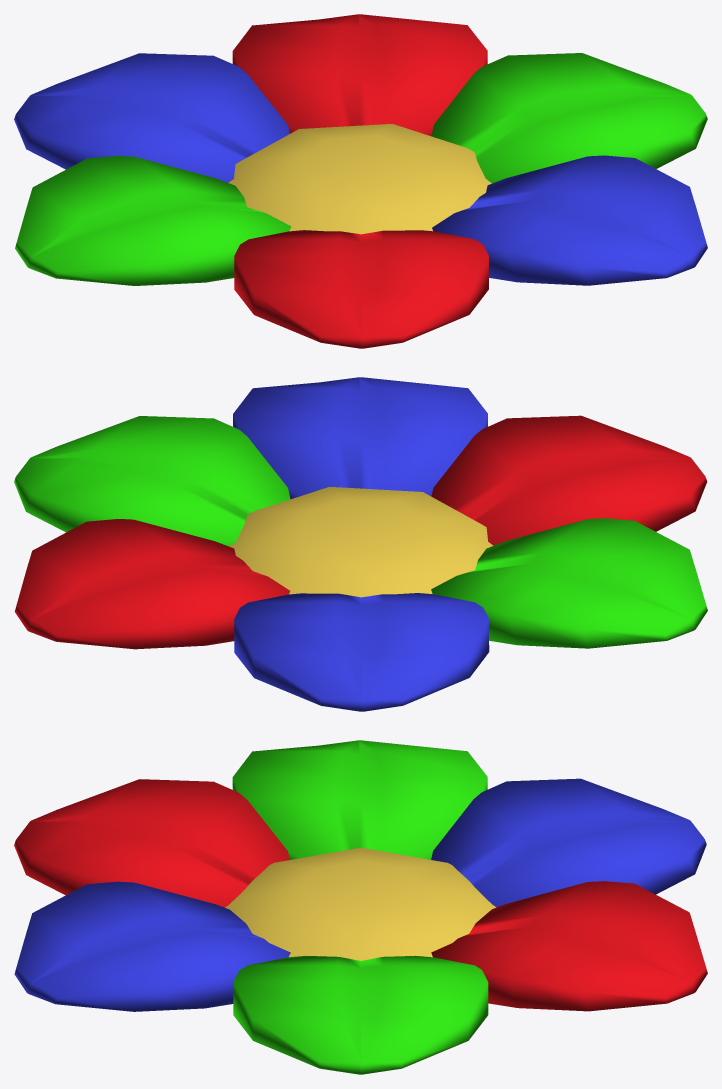
The model's file is FlorPuzzlePrimavera.fbx.
3 renders of one model, top to bottom at view 1: azimuth 30°, elevation 25°; view 2: azimuth 150°, elevation 25°; view 3: azimuth 270°, elevation 25°, orthographic.
Parts seen in each view (by area): view 1: Petala5, Petala3, Petala4, Petala2, Petala6, Petala1, Miolo; view 2: Petala1, Petala5, Petala6, Petala2, Petala4, Petala3, Miolo; view 3: Petala1, Petala3, Petala2, Petala4, Petala6, Petala5, Miolo.
Boxes of the visible parts, box(x1,y1,x2,y2) form: Petala5: box(15, 156, 291, 285); Petala3: box(432, 155, 707, 285); Petala4: box(234, 230, 488, 348); Petala2: box(431, 53, 707, 183); Petala6: box(14, 53, 289, 182); Petala1: box(232, 14, 487, 135); Miolo: box(228, 124, 491, 234); Petala1: box(14, 519, 290, 649); Petala5: box(431, 518, 707, 648); Petala6: box(234, 593, 489, 711); Petala2: box(14, 416, 290, 546); Petala4: box(431, 415, 707, 545); Petala3: box(233, 377, 487, 499); Miolo: box(229, 486, 493, 597); Petala1: box(431, 881, 707, 1011); Petala3: box(14, 881, 290, 1011); Petala2: box(233, 955, 488, 1074); Petala4: box(14, 779, 289, 907); Petala6: box(431, 778, 706, 907); Petala5: box(232, 740, 487, 859); Miolo: box(225, 847, 496, 960).
Bounding box in the file's own units: 623 × 62.24 × 562.
